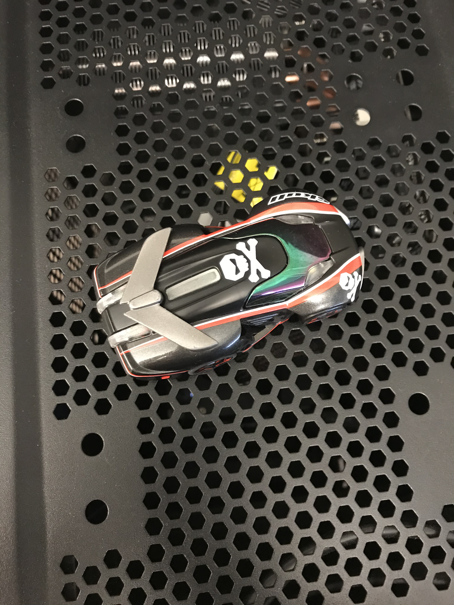Skull: (90, 189, 369, 380)
